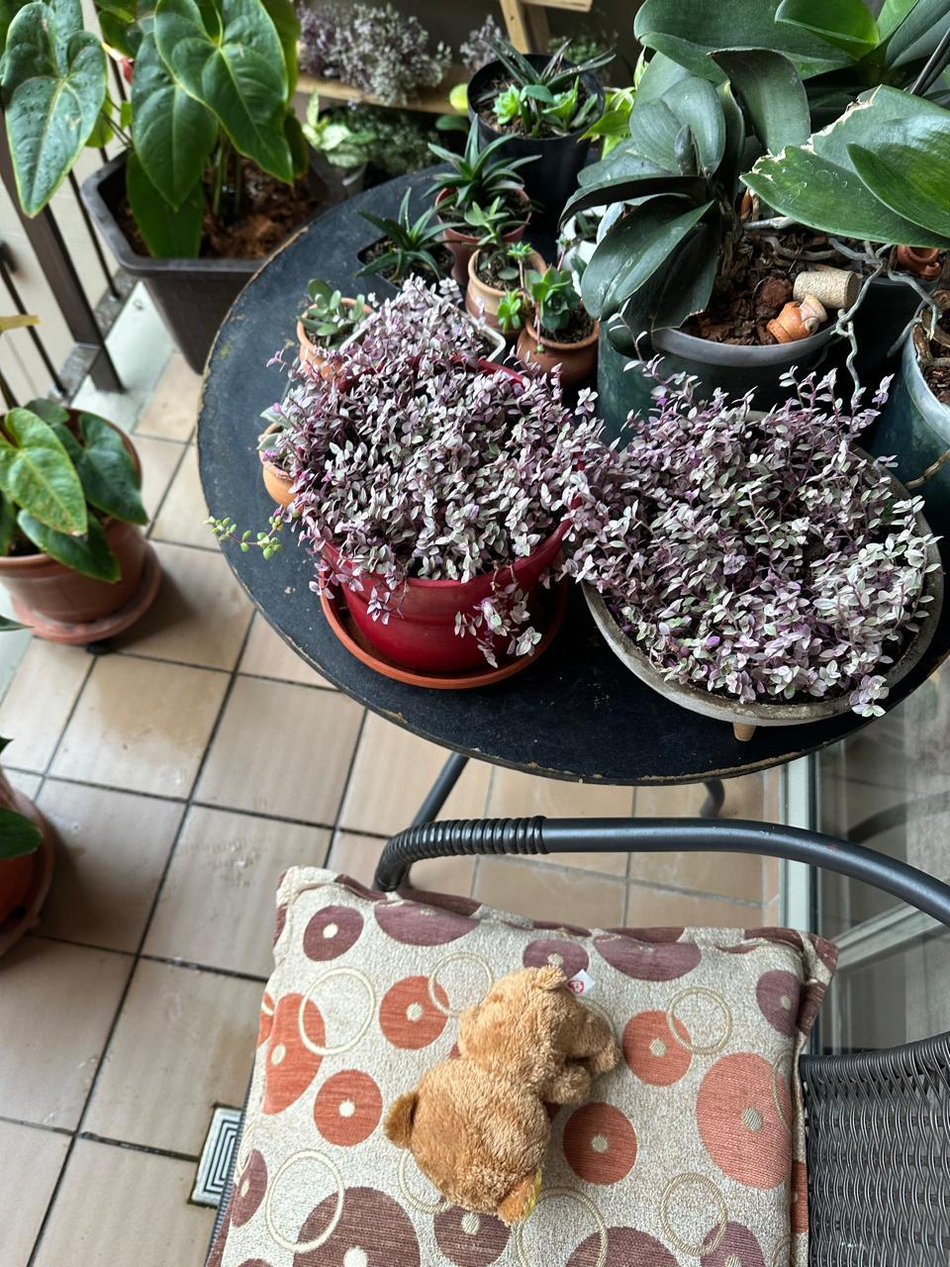peluche_sebastian: (386, 965, 618, 1225)
